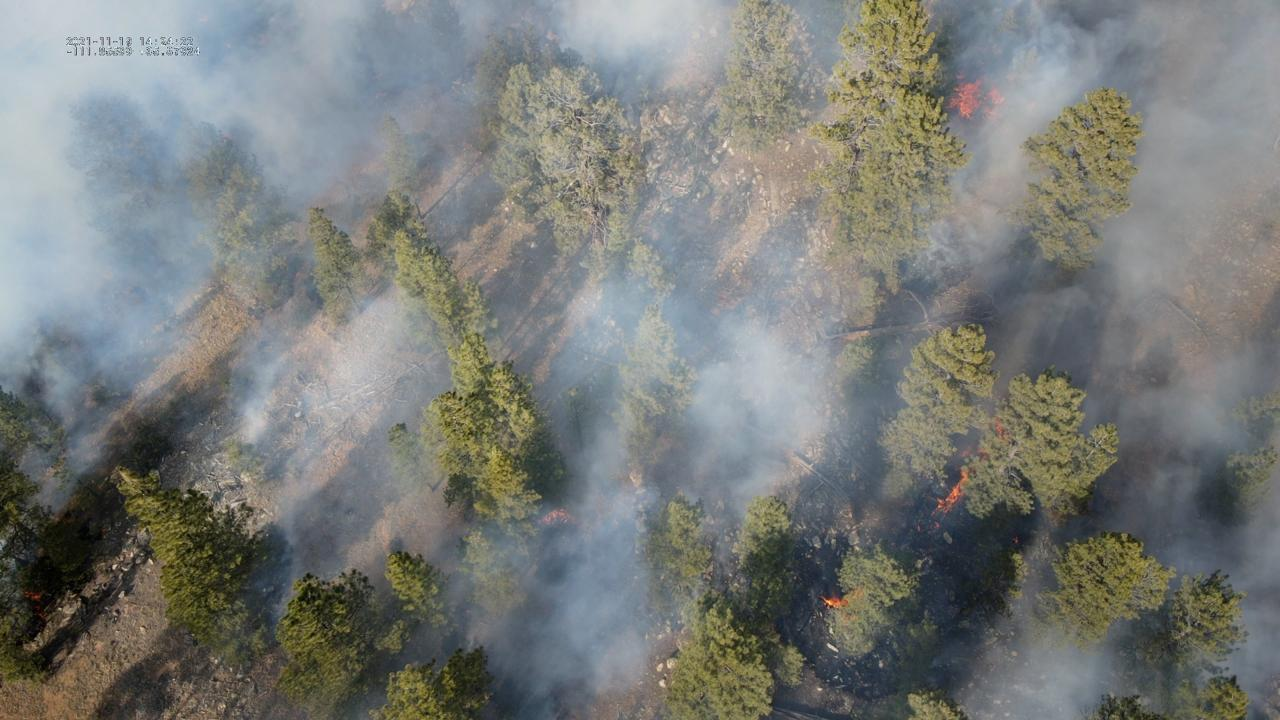fire: (944, 79, 1007, 122), (935, 467, 970, 514), (537, 506, 573, 527), (957, 448, 990, 461), (820, 596, 850, 610), (32, 604, 49, 623), (24, 589, 44, 603), (993, 418, 1004, 435), (934, 519, 941, 529), (1012, 537, 1018, 543)
smoke: (0, 0, 1280, 720)
